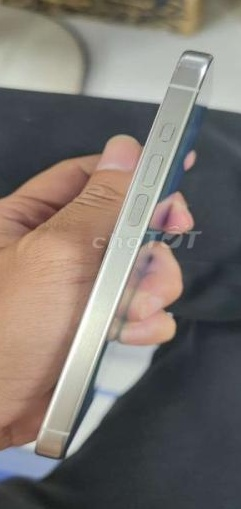scratch: (171, 58, 208, 76)
